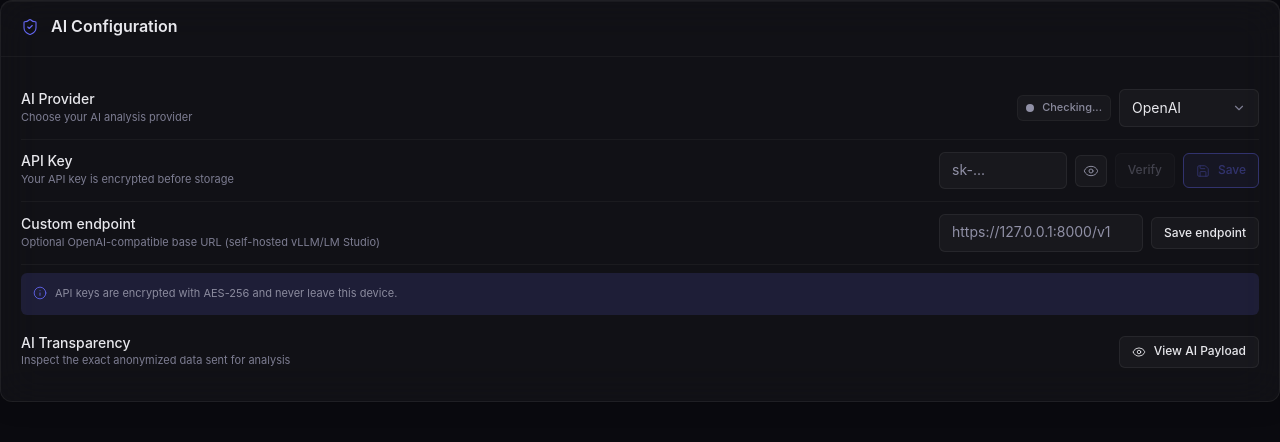
FE-07b AIConfigSection surfaces IPC rejections › leaves the Saving state and shows an error when setApiKey rejects
The width and height of the screenshot is (1280, 442).
In the password field labelled "API Key": (1003,171) [939,152,1067,189], type "sk-test"
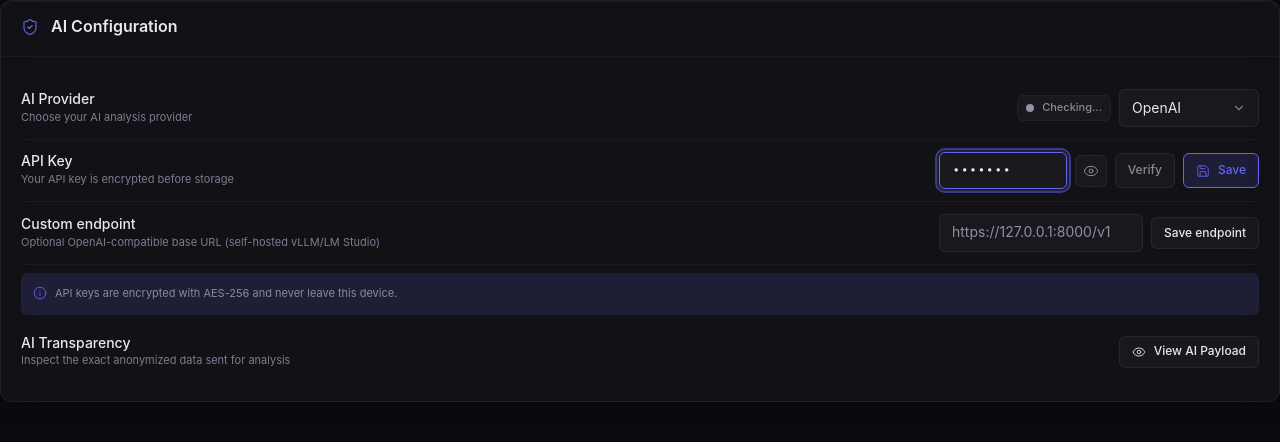
Click the button "Save": (1221,171) [1183,153,1259,188]
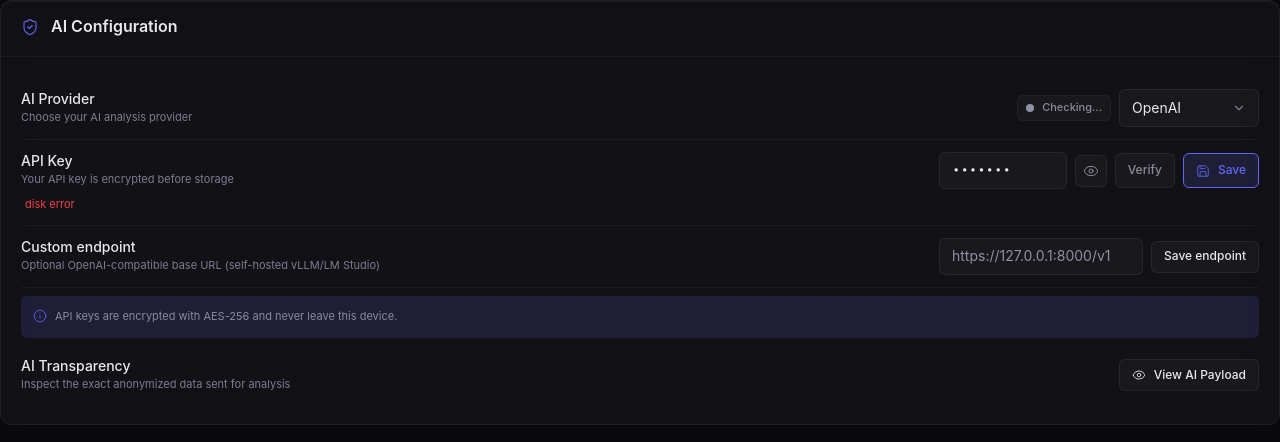
expect the text "disk error" is shown: met, box [25,197,75,211]
